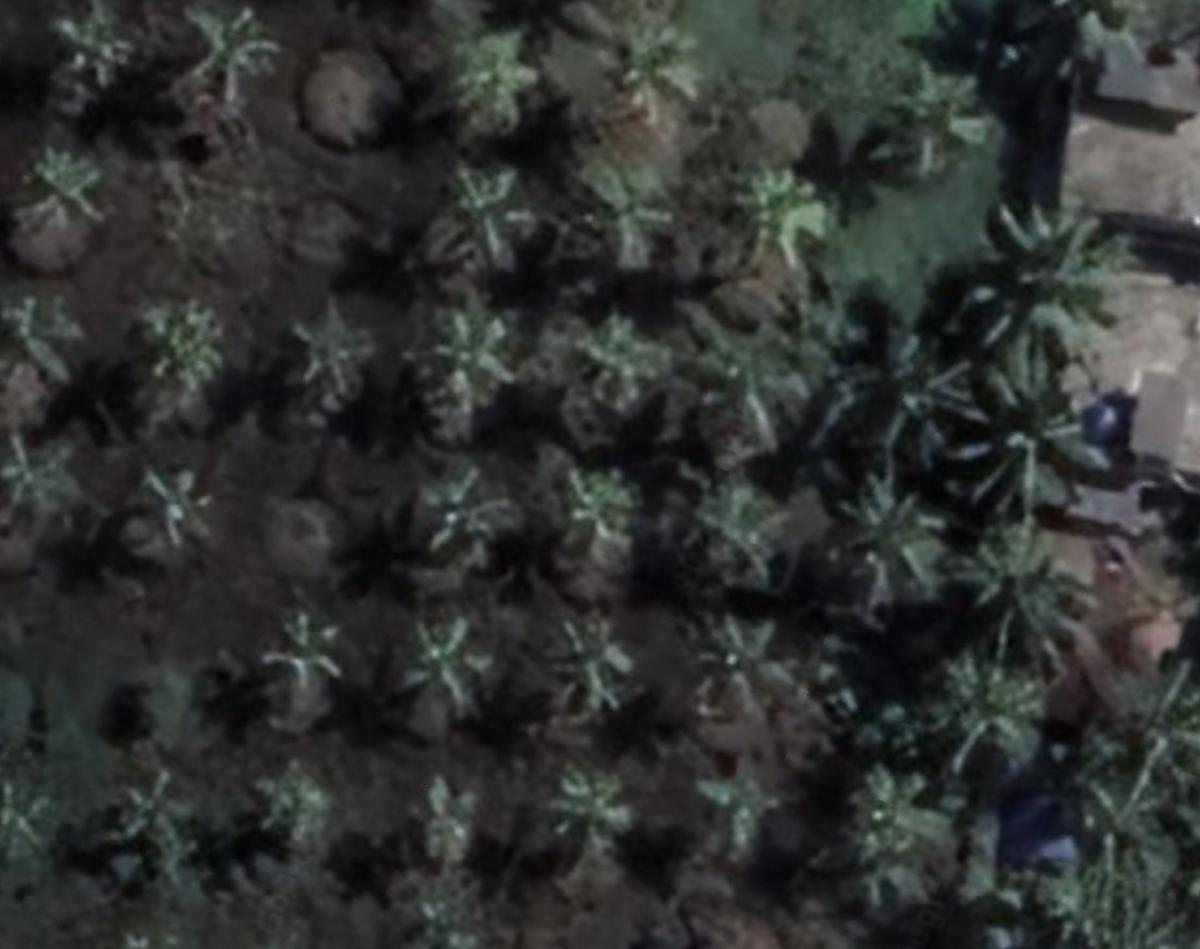coconut: (995, 196, 1133, 350), (955, 365, 1097, 497), (961, 512, 1093, 647), (697, 332, 820, 464), (685, 484, 807, 615), (568, 162, 687, 294), (565, 316, 673, 454), (400, 299, 515, 419), (842, 478, 947, 604), (676, 617, 790, 731), (390, 617, 500, 731), (921, 643, 1035, 753), (562, 453, 671, 567), (132, 308, 224, 443), (173, 9, 289, 116), (871, 57, 982, 166), (740, 159, 837, 278), (242, 757, 350, 862), (551, 615, 647, 732), (422, 467, 532, 569), (866, 332, 968, 439), (1, 147, 104, 252), (46, 11, 142, 123), (259, 612, 364, 711), (274, 298, 364, 413), (2, 428, 93, 540), (436, 153, 526, 262), (97, 769, 191, 872), (5, 284, 87, 402), (538, 761, 634, 861), (452, 37, 549, 135), (682, 757, 772, 862), (607, 18, 697, 119), (405, 770, 493, 869), (132, 464, 220, 557), (5, 775, 75, 864)
